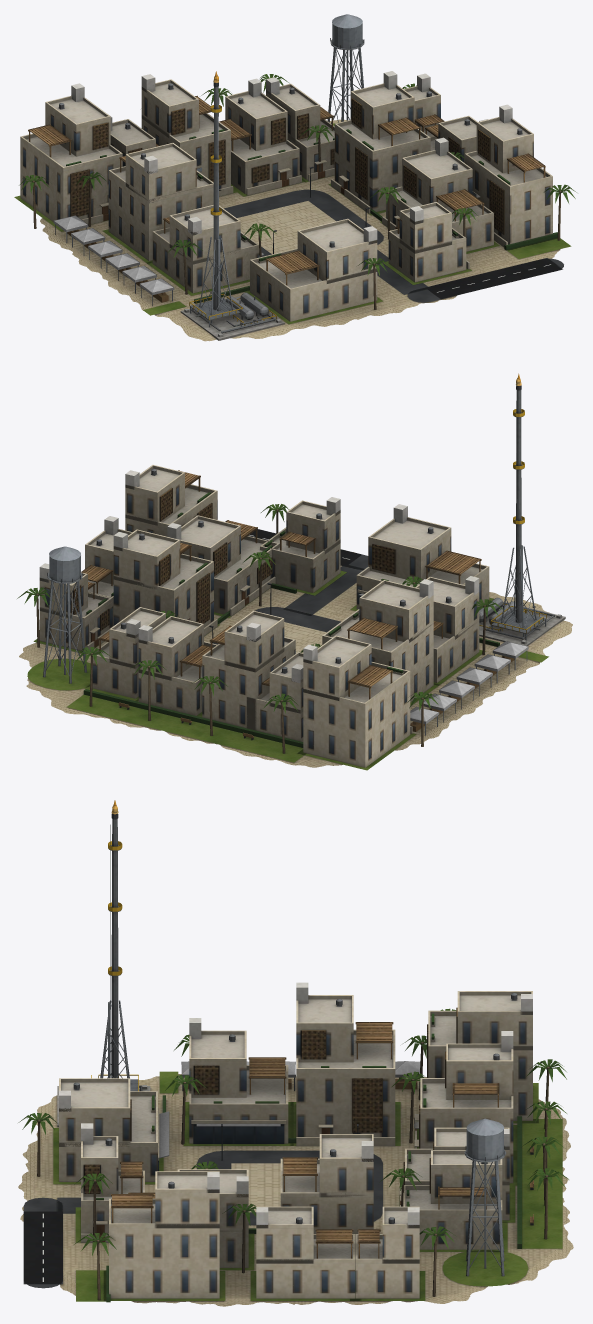
The model's file is modern-town-medium-b-levant.glb.
The picture shows the model from 3 angles, top to bottom: view 1: azimuth 30°, elevation 25°; view 2: azimuth 150°, elevation 25°; view 3: azimuth 270°, elevation 25°; orthographic projection. The views are drawn at different scales.
Visible parts, largest first — view 1: LOD0; view 2: LOD0; view 3: LOD0.
Boxes of the visible parts, box(x1,y1,x2,y2) form: LOD0: box(14, 14, 576, 341); LOD0: box(17, 373, 572, 770); LOD0: box(18, 800, 573, 1306).
Size of what is drawn, in the model's own units: 6.25 by 3.6 by 6.07.
3 materials, 3 textured.
